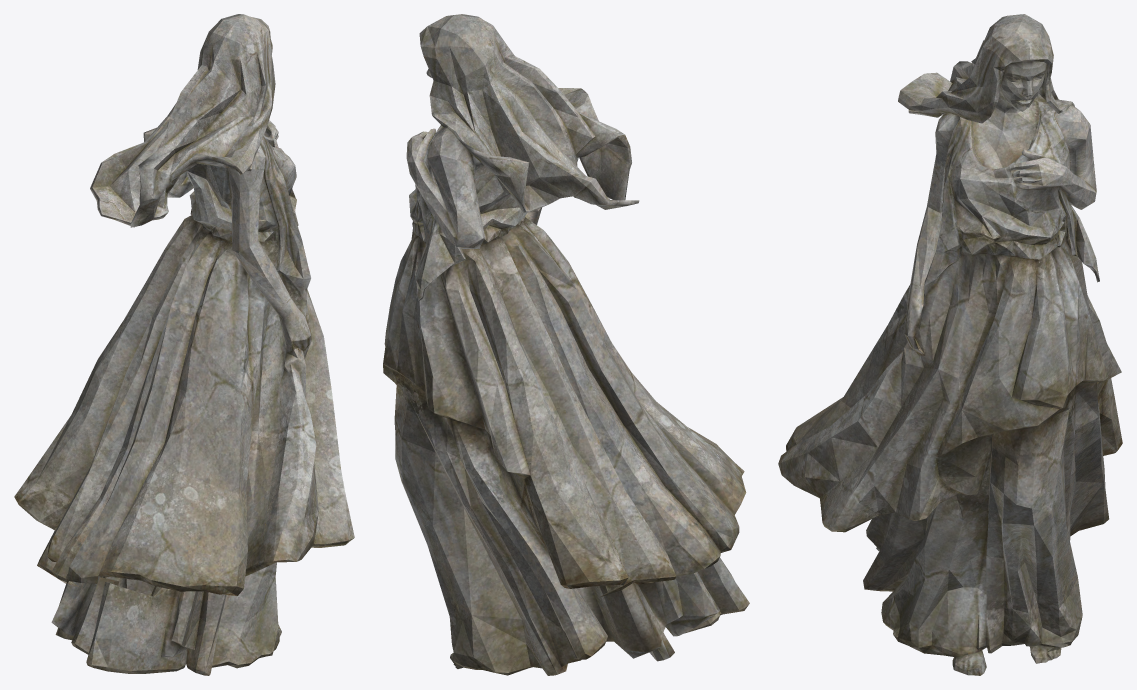
Rendered from bg_atm_aborder_statue01_sm_ksh.FBX.
3 views of the same model, side by side, from view 1: azimuth 30°, elevation 25°; view 2: azimuth 150°, elevation 25°; view 3: azimuth 270°, elevation 25° (orthographic). The views are drawn at different scales.
Visible parts, largest first — view 1: bg_atm_aborder_statue01_sm_ksh; view 2: bg_atm_aborder_statue01_sm_ksh; view 3: bg_atm_aborder_statue01_sm_ksh.
Part boxes in pixels (box(x1,y1,x2,y2)): bg_atm_aborder_statue01_sm_ksh: box(14, 14, 354, 675); bg_atm_aborder_statue01_sm_ksh: box(383, 14, 749, 675); bg_atm_aborder_statue01_sm_ksh: box(778, 14, 1122, 675).
Size of the model in its own units: 207 by 422 by 204.
